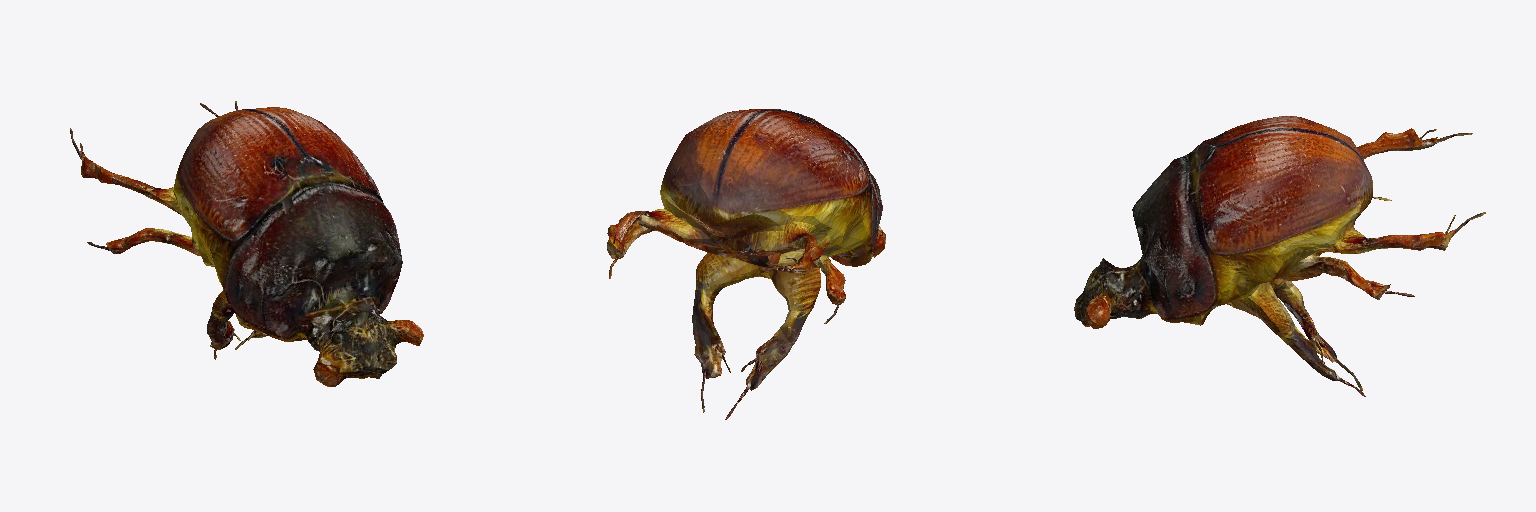
3 views of the same model, side by side, from view 1: azimuth 30°, elevation 25°; view 2: azimuth 150°, elevation 25°; view 3: azimuth 270°, elevation 25° (orthographic).
Visible parts, largest first — view 1: Scarab4_copy; view 2: Scarab4_copy; view 3: Scarab4_copy.
Part boxes in pixels (x1,y1,x2,y2): Scarab4_copy: (80,107,423,386); Scarab4_copy: (607,109,885,390); Scarab4_copy: (1074,116,1455,380).
Size of the model in its own units: 505 by 569 by 788.
Materials: 4 (1 with a texture image).